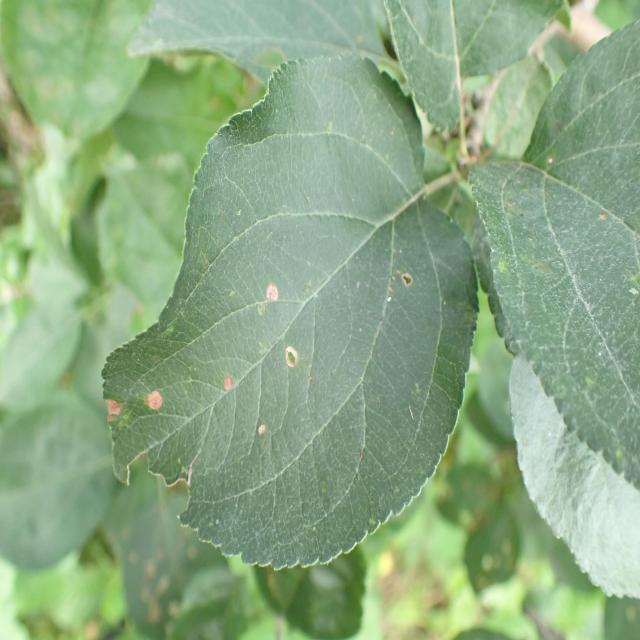Black Rot: (136, 375, 168, 424), (393, 248, 422, 302), (279, 336, 309, 386), (255, 276, 288, 320), (100, 388, 129, 438), (214, 358, 240, 401)
